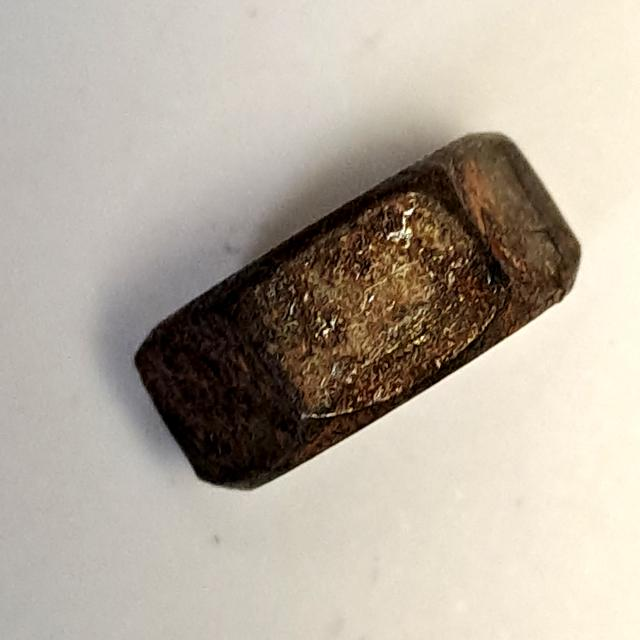Side_Rust: (126, 123, 591, 511)
